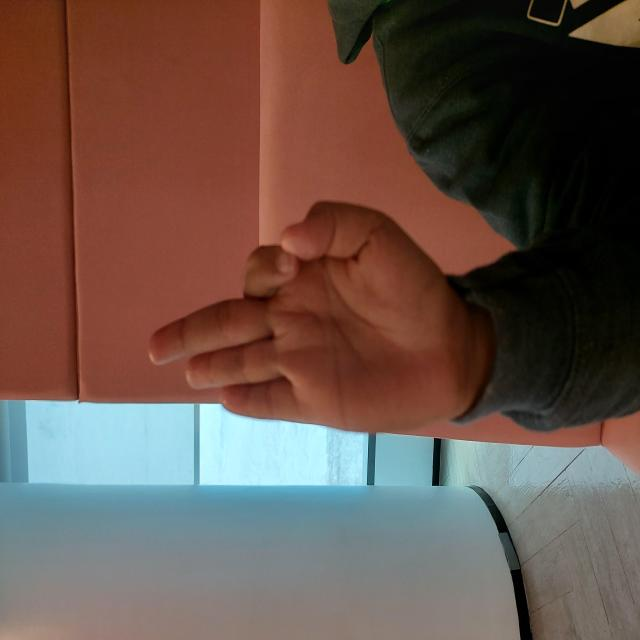F: (202, 141, 448, 477)
